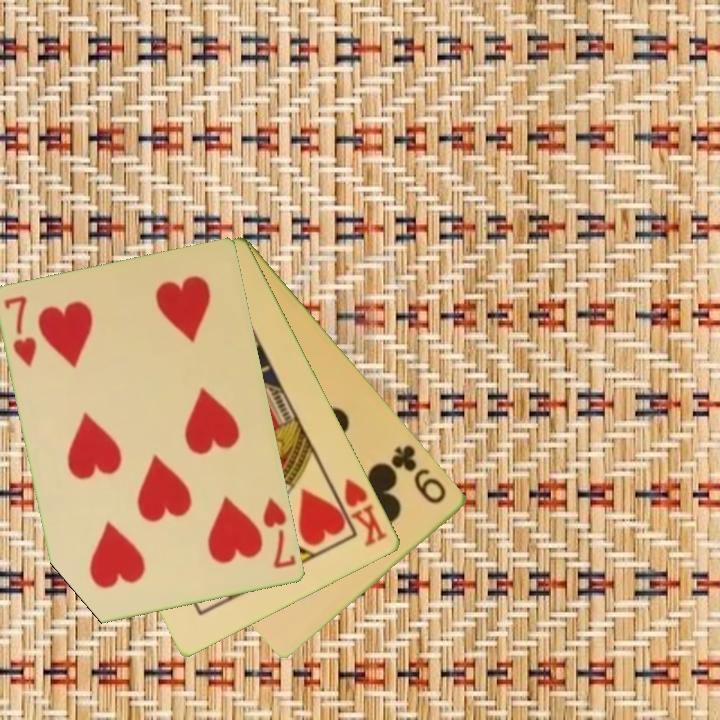7h: (260, 494, 300, 572), (1, 292, 40, 371)
9c: (388, 441, 450, 507)
Kh: (328, 475, 392, 550)
